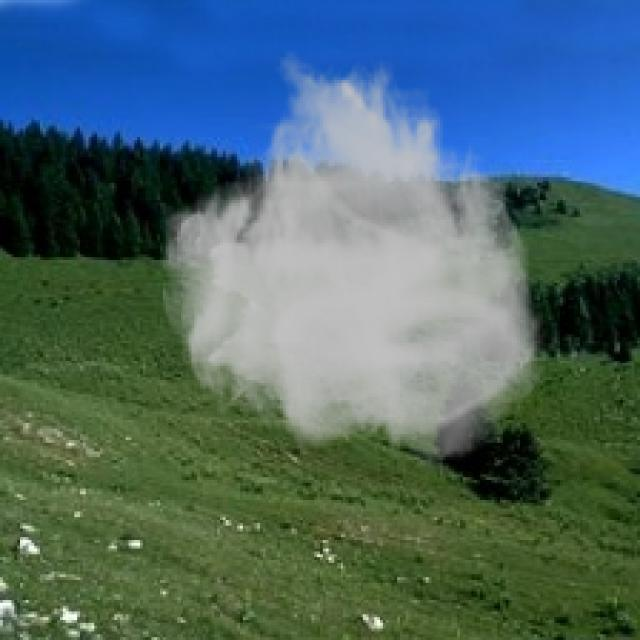Smoke: (157, 49, 549, 468)
